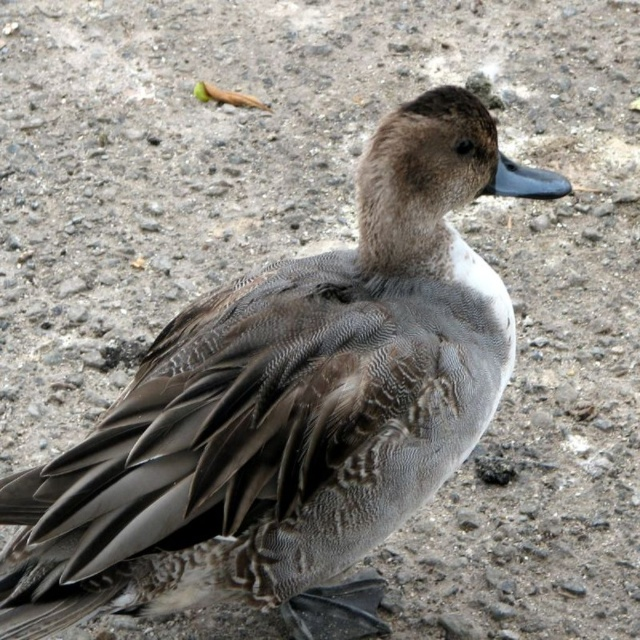Duck: (0, 67, 580, 636)
